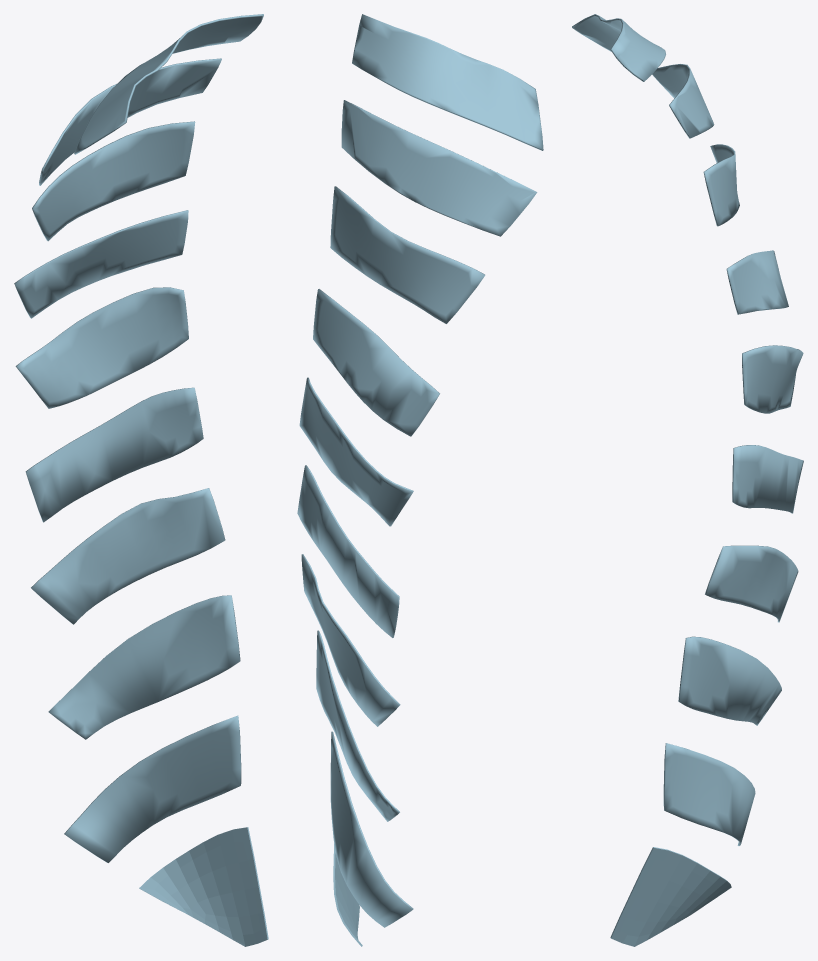
File: articulacoes-internal-intercostal-membrane-r.glb
3 views of the same model, side by side, from view 1: azimuth 30°, elevation 25°; view 2: azimuth 150°, elevation 25°; view 3: azimuth 270°, elevation 25° (orthographic). The views are drawn at different scales.
Parts seen in each view (by area): view 1: Internal intercostal membrane.r; view 2: Internal intercostal membrane.r; view 3: Internal intercostal membrane.r.
Boxes of the visible parts, box(x1,y1,x2,y2) form: Internal intercostal membrane.r: box(14, 14, 268, 946); Internal intercostal membrane.r: box(297, 14, 543, 946); Internal intercostal membrane.r: box(572, 14, 803, 946).
Bounding box in the file's own units: 0.0668 × 0.2807 × 0.0655.
